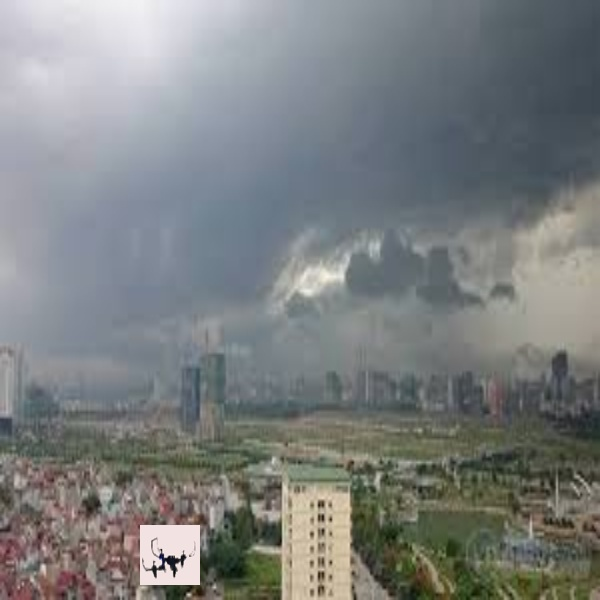drone: (142, 531, 197, 585)
